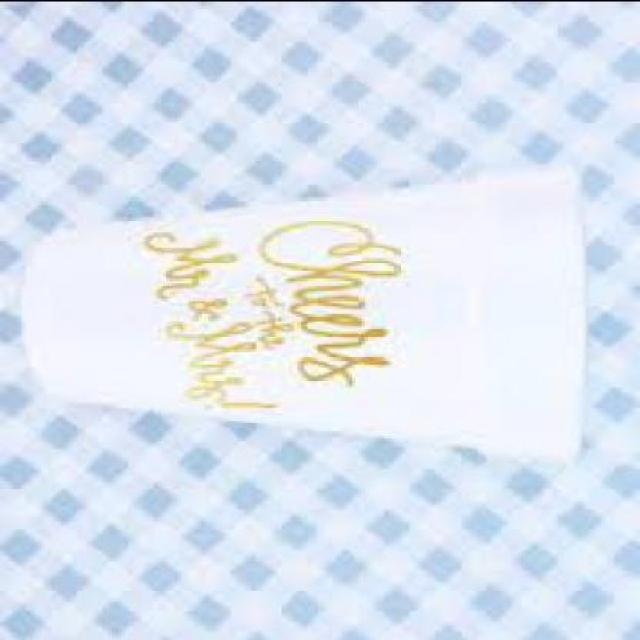PAPER: (26, 160, 588, 452)
